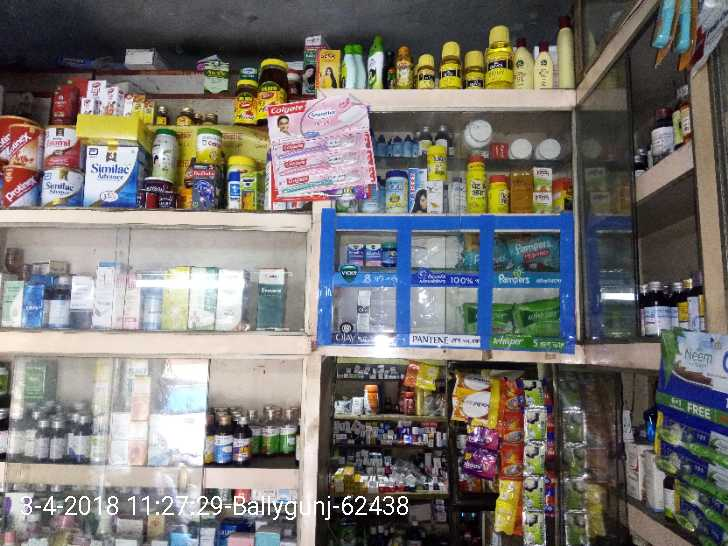vicks: (347, 239, 395, 271)
